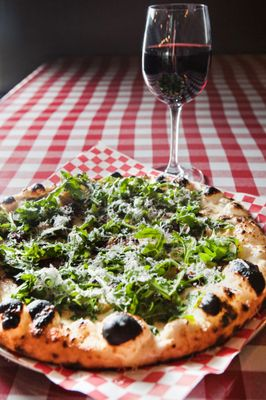curry: (0, 10, 266, 399)
sandwich: (0, 172, 264, 370), (142, 3, 213, 186)
